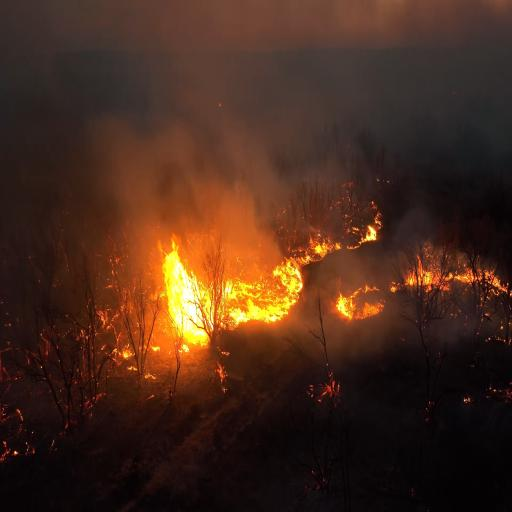fire: (100, 26, 251, 232), (220, 262, 297, 333), (159, 242, 210, 344), (398, 246, 468, 290)
